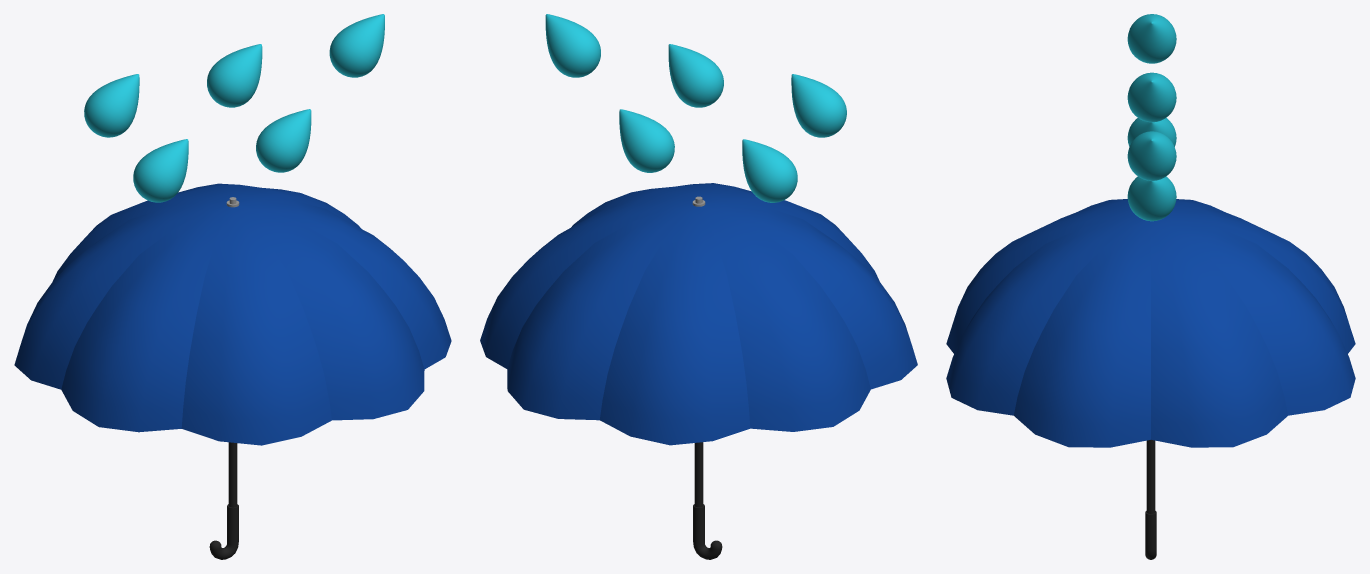
The model's file is umbrella_with_rain_drops.glb.
The picture shows the model from 3 angles, left to right: view 1: azimuth 30°, elevation 25°; view 2: azimuth 150°, elevation 25°; view 3: azimuth 270°, elevation 25°; orthographic projection. The views are drawn at different scales.
Visible parts, largest first — view 1: Circle.2126; view 2: Circle.2126; view 3: Circle.2126.
Part boxes in pixels (bbox=[...]): Circle.2126: bbox=[14, 14, 451, 559]; Circle.2126: bbox=[480, 14, 917, 559]; Circle.2126: bbox=[946, 14, 1355, 559].
Bounding box in the file's own units: 1.73 × 2.31 × 1.73.
Materials: 1 (1 with a texture image).
